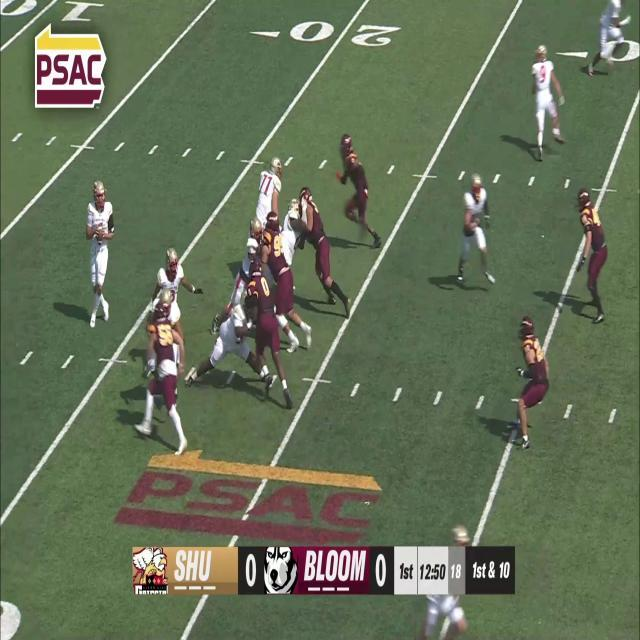football: (96, 222, 104, 246)
